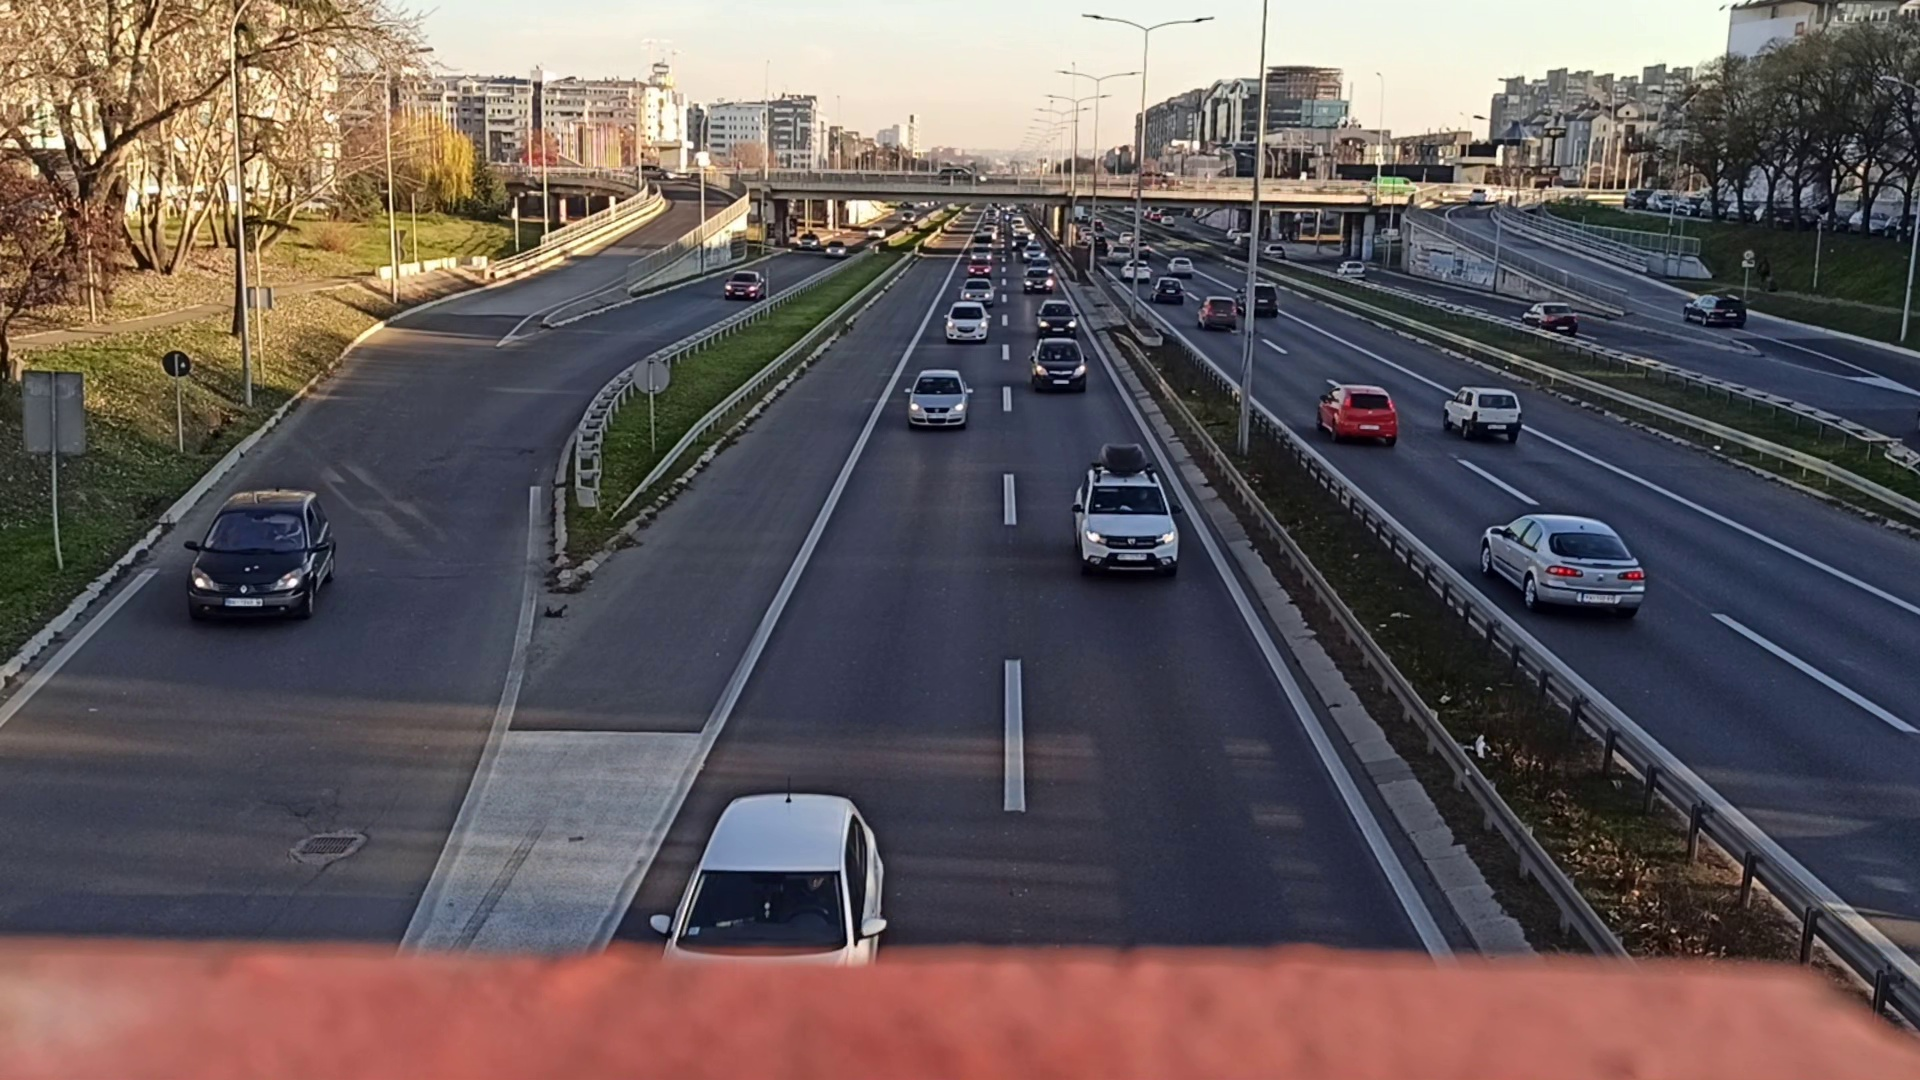car: (189, 489, 338, 622), (1481, 509, 1644, 621), (1075, 447, 1179, 580), (1319, 386, 1400, 448), (1444, 385, 1520, 442), (907, 369, 967, 434), (1030, 338, 1089, 396), (1684, 289, 1747, 328), (1520, 302, 1578, 338), (945, 302, 989, 344), (1036, 299, 1077, 334), (725, 266, 765, 301), (1199, 295, 1237, 328), (1245, 284, 1276, 316), (1150, 276, 1183, 303), (1023, 268, 1054, 294), (961, 280, 993, 305), (1168, 255, 1193, 276)
